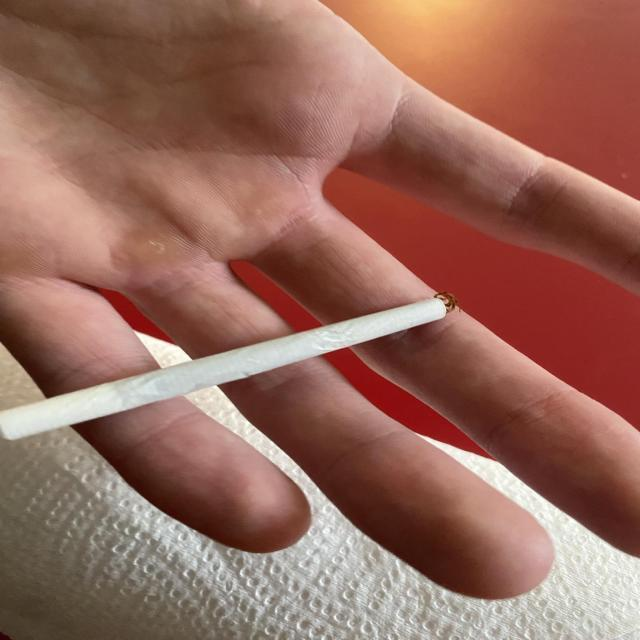rokok: (0, 290, 464, 442)
